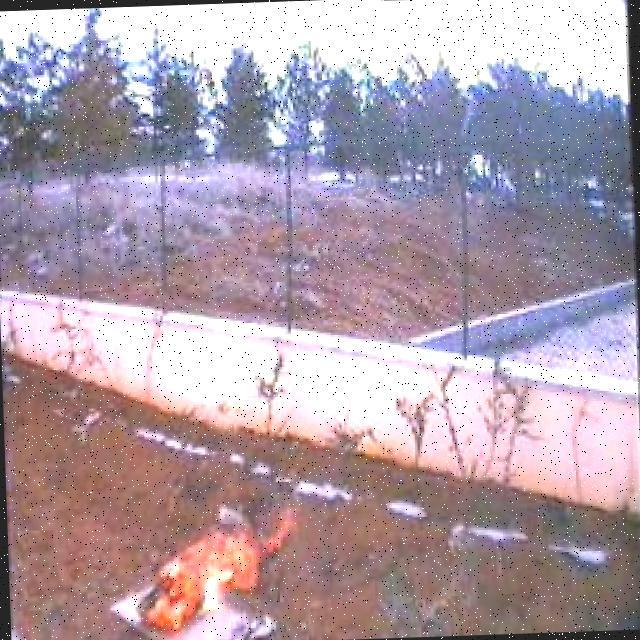Fire: (124, 506, 299, 635)
